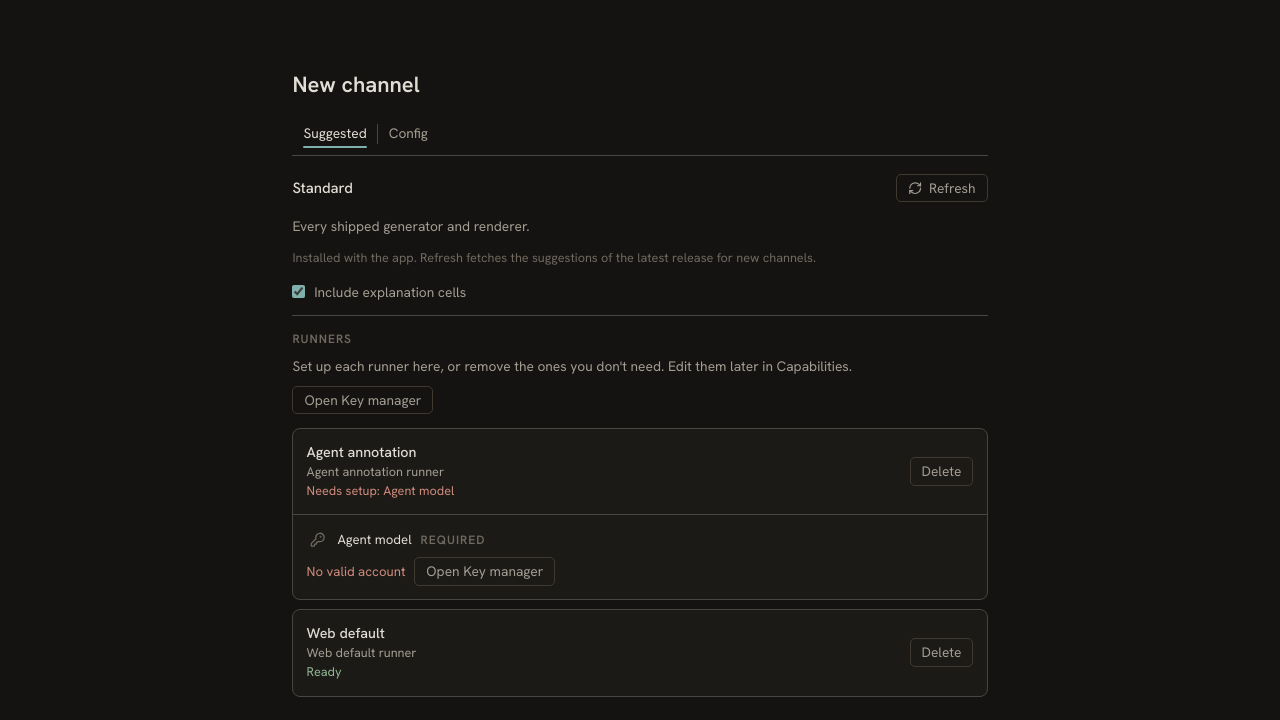
Scenario: New channel: Suggested › labels the path as the server’s on a remote server, and refuses a folder with the server’s reason
Expected: the text "Agent annotation" is shown, left=307, top=443, right=416, bottom=461
Press the mouse on the button "Refresh" at (942, 188), box left=896, top=174, right=988, bottom=202
Wait 5000 ms
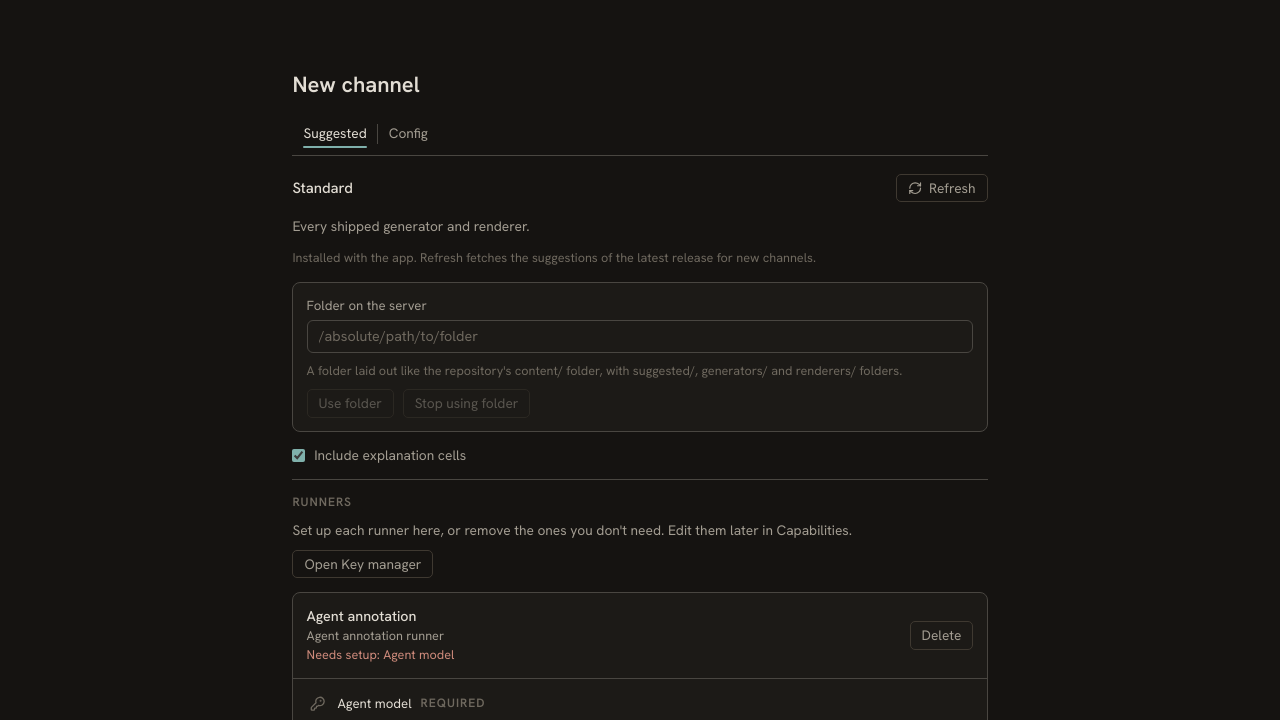
Type "/srv/sdk" into the field labelled "Folder on the server" at (640, 336), box left=307, top=320, right=973, bottom=353
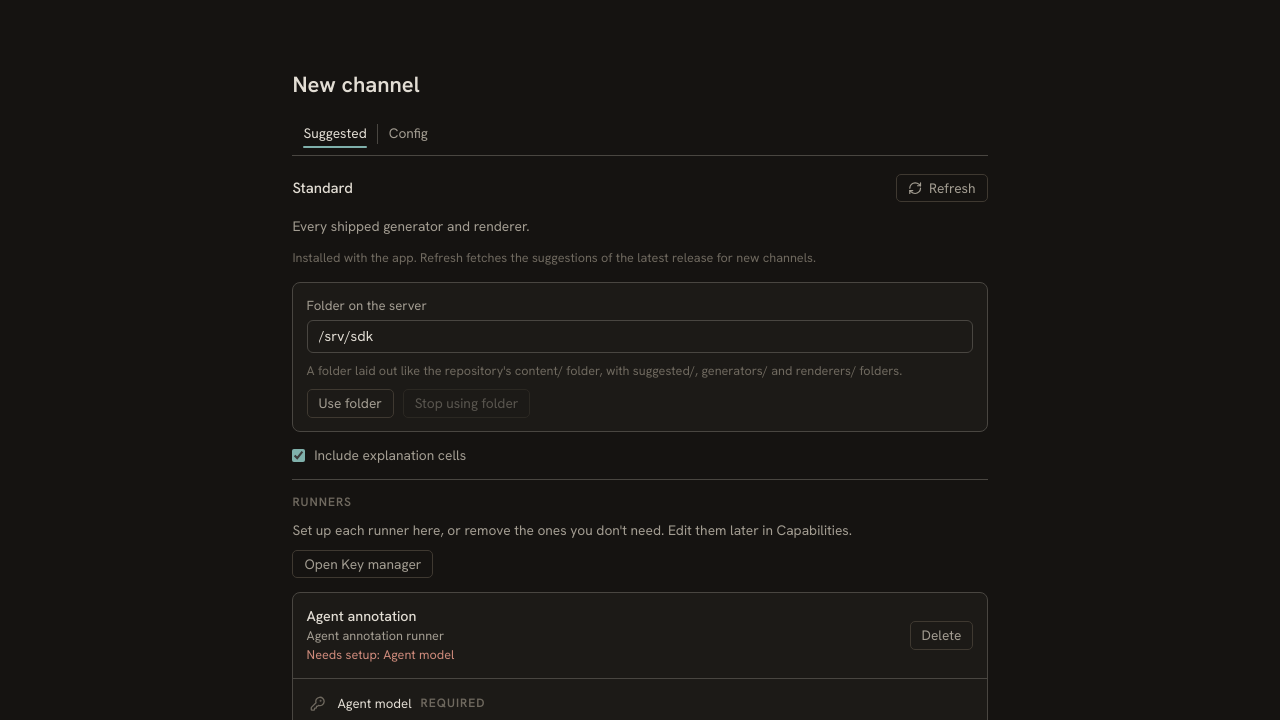
Click the button "Use folder" at (350, 404), box left=307, top=390, right=394, bottom=418
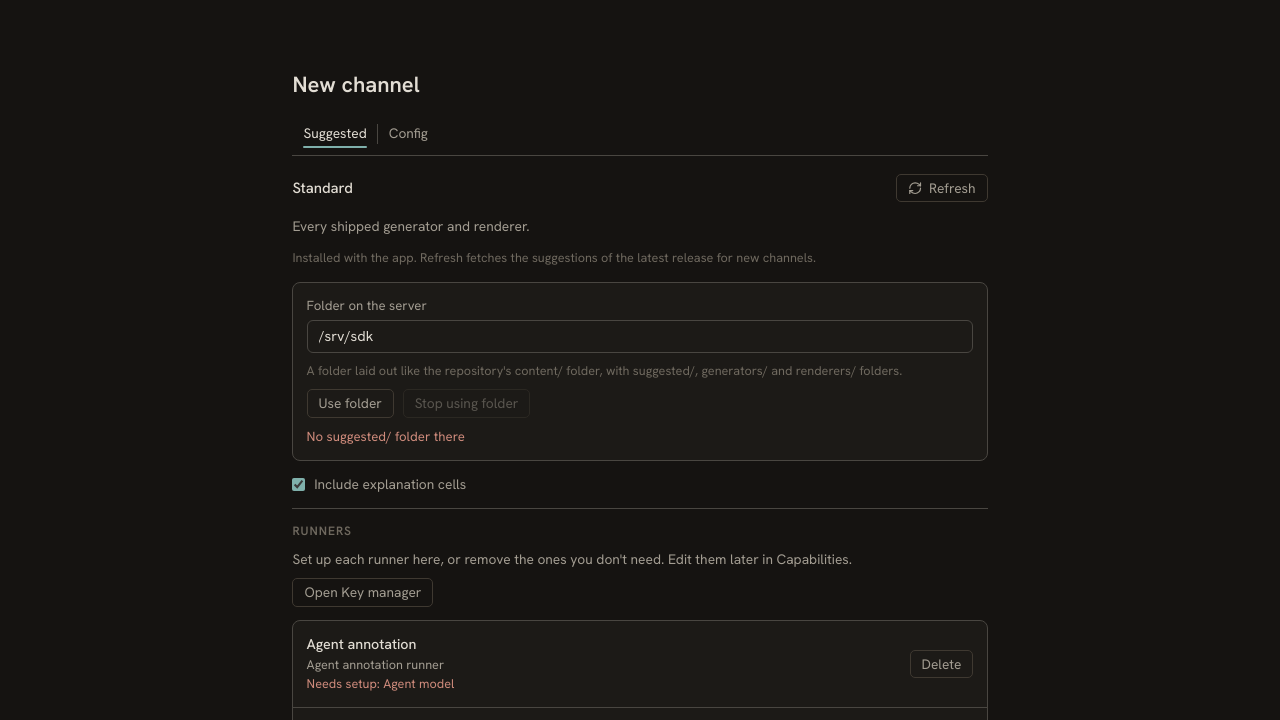
Expected: the text "Agent annotation" is shown, left=307, top=635, right=416, bottom=653
Now the text "No suggested/ folder there" is shown, box left=307, top=428, right=465, bottom=445
